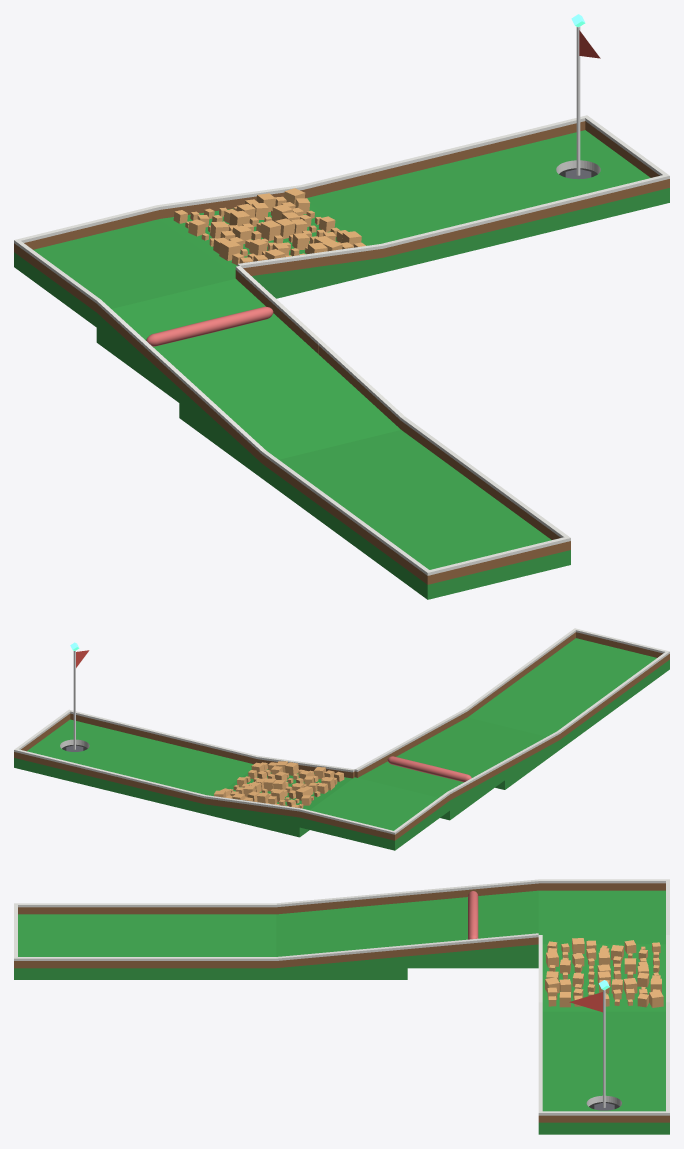
Rendered from level_02.glb.
3 views of the same model, one above another, from view 1: azimuth 30°, elevation 25°; view 2: azimuth 150°, elevation 25°; view 3: azimuth 270°, elevation 25° (orthographic). The views are drawn at different scales.
Parts seen in each view (by area): view 1: Straight_Floor (×2), Ramp_Floor, RampSpinner_Floor, Start_Floor, Corner_Floor, Finish_Floor, RampCubePilePreview_Cubes, Straight_Rails (×2), RampCubePile_Floor, Finish_Rails, Straight_RailCap (×2), Start_Rails (+11 smaller); view 2: Straight_Floor (×2), Corner_Floor, Start_Floor, Finish_Floor, Ramp_Floor, RampSpinner_Floor, RampCubePilePreview_Cubes, RampCubePile_Floor, Straight_Rails (×2), Finish_Rails, Straight_RailCap (×2), Start_Rails (+11 smaller); view 3: Straight_Floor (×2), Ramp_Floor, RampSpinner_Floor, Start_Floor, Finish_Floor, Corner_Floor, RampCubePilePreview_Cubes, RampCubePile_Floor, Straight_Rails, Start_Rails, Ramp_Rails, RampSpinner_Rails (+10 smaller).
Boxes of the visible parts, bbox=[...] form: Straight_Floor (×2): bbox=[262, 164, 526, 538]; Ramp_Floor: bbox=[179, 354, 400, 478]; RampSpinner_Floor: bbox=[96, 278, 317, 402]; Start_Floor: bbox=[345, 490, 570, 599]; Corner_Floor: bbox=[14, 219, 235, 327]; Finish_Floor: bbox=[447, 130, 669, 237]; RampCubePilePreview_Cubes: bbox=[173, 188, 366, 265]; Straight_Rails (×2): bbox=[262, 155, 526, 523]; RampCubePile_Floor: bbox=[160, 204, 383, 298]; Finish_Rails: bbox=[446, 121, 669, 222]; Straight_RailCap (×2): bbox=[262, 150, 526, 514]; Start_Rails: bbox=[345, 481, 570, 584]; Straight_Floor (×2): bbox=[109, 677, 614, 813]; Corner_Floor: bbox=[299, 777, 449, 850]; Start_Floor: bbox=[523, 638, 669, 709]; Finish_Floor: bbox=[14, 719, 161, 790]; Ramp_Floor: bbox=[413, 717, 559, 789]; RampSpinner_Floor: bbox=[358, 747, 504, 820]; RampCubePilePreview_Cubes: bbox=[214, 761, 344, 808]; RampCubePile_Floor: bbox=[204, 769, 352, 837]; Straight_Rails (×2): bbox=[109, 671, 614, 804]; Finish_Rails: bbox=[14, 713, 162, 780]; Straight_RailCap (×2): bbox=[109, 668, 614, 798]; Start_Rails: bbox=[522, 632, 669, 699]; Straight_Floor (×2): bbox=[145, 914, 665, 1067]; Ramp_Floor: bbox=[276, 902, 407, 979]; RampSpinner_Floor: bbox=[407, 890, 538, 968]; Start_Floor: bbox=[14, 914, 145, 979]; Finish_Floor: bbox=[538, 1067, 669, 1134]; Corner_Floor: bbox=[538, 890, 665, 944]; RampCubePilePreview_Cubes: bbox=[545, 938, 663, 1007]; RampCubePile_Floor: bbox=[542, 944, 665, 1011]; Straight_Rails: bbox=[145, 907, 276, 968]; Start_Rails: bbox=[14, 907, 145, 968]; Ramp_Rails: bbox=[276, 895, 407, 967]; RampSpinner_Rails: bbox=[407, 883, 538, 956].
Size of what is drawn, in the model's own units: 40 by 12.38 by 50.
